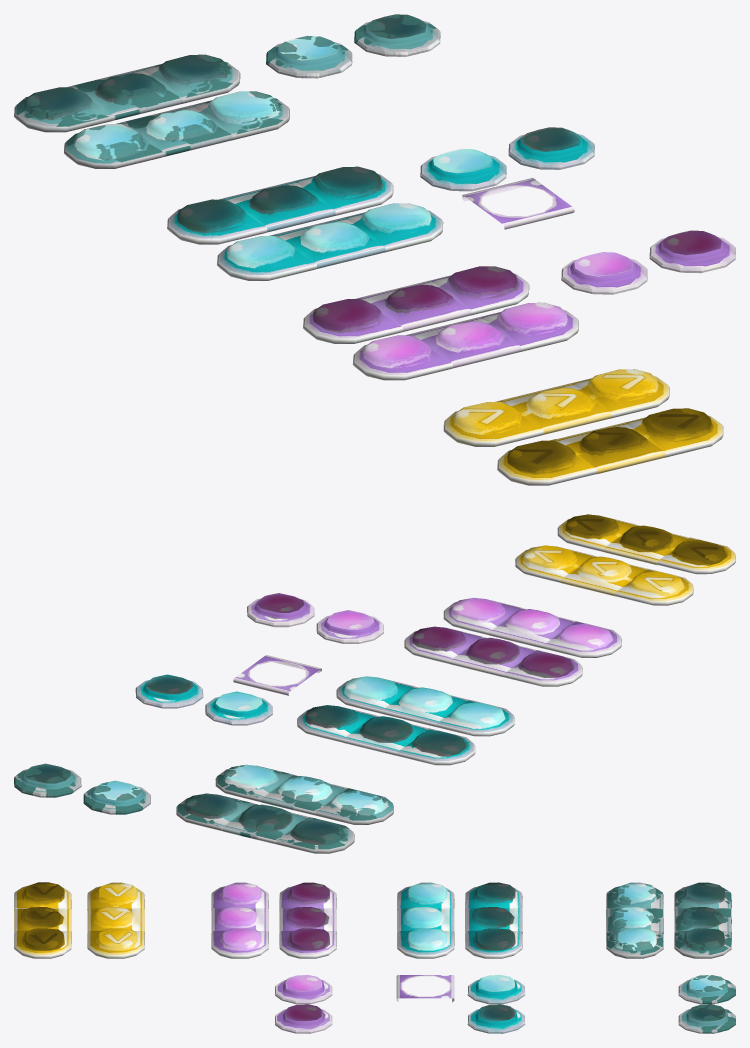
3 renders of one model, top to bottom at view 1: azimuth 30°, elevation 25°; view 2: azimuth 150°, elevation 25°; view 3: azimuth 270°, elevation 25°, orthographic. The views are drawn at different scales.
Visible parts, largest first — view 1: neuro_tile_start.003, neuro_tile_start.015, neuro_tile_start.011, neuro_tile_start.005, neuro_tile_start.001, neuro_tile_start.007, neuro_tile_start.009, neuro_tile_start.013, neuro_tile_mid.003, neuro_tile_mid.004, neuro_tile_mid.005, neuro_tile_mid.012 (+19 smaller); view 2: neuro_tile_mid.005, neuro_tile_mid.006, neuro_tile_mid.003, neuro_tile_mid.012, neuro_tile_mid.004, neuro_tile_mid.002, neuro_tile_mid.007, neuro_tile_start.011, neuro_tile_mid.001, neuro_tile_start.003, neuro_tile_start.009, neuro_tile_start.001 (+19 smaller); view 3: neuro_tile_start, neuro_tile_start.002, neuro_tile_start.006, neuro_tile_start.014, neuro_tile_start.004, neuro_tile_start.008, neuro_tile_start.010, neuro_tile_start.012, neuro_tile_unique.002, neuro_tile_unique.005, neuro_tile_unique.004, neuro_tile_unique.003 (+19 smaller).
Boxes of the visible parts, box(x1,y1,x2,y2) form: neuro_tile_start.003: box(497, 439, 597, 485); neuro_tile_start.015: box(14, 85, 114, 132); neuro_tile_start.011: box(167, 198, 267, 244); neuro_tile_start.005: box(353, 333, 452, 380); neuro_tile_start.001: box(443, 400, 543, 446); neuro_tile_start.007: box(303, 297, 403, 343); neuro_tile_start.009: box(217, 234, 317, 280); neuro_tile_start.013: box(64, 122, 163, 168); neuro_tile_mid.003: box(361, 280, 472, 332); neuro_tile_mid.004: box(275, 217, 386, 268); neuro_tile_mid.005: box(225, 181, 336, 232); neuro_tile_mid.012: box(502, 383, 612, 434); neuro_tile_mid.005: box(342, 715, 429, 756); neuro_tile_mid.006: box(260, 775, 347, 815); neuro_tile_mid.003: box(449, 637, 536, 677); neuro_tile_mid.012: box(560, 555, 647, 596); neuro_tile_mid.004: box(381, 686, 468, 727); neuro_tile_mid.002: box(488, 608, 575, 648); neuro_tile_mid.007: box(221, 804, 307, 844); neuro_tile_start.011: box(397, 728, 475, 765); neuro_tile_mid.001: box(602, 524, 688, 565); neuro_tile_start.003: box(657, 537, 735, 574); neuro_tile_start.009: box(436, 699, 514, 736); neuro_tile_start.001: box(615, 569, 693, 605); neuro_tile_start: box(87, 928, 144, 958); neuro_tile_start.002: box(14, 928, 71, 958); neuro_tile_start.006: box(279, 928, 336, 958); neuro_tile_start.014: box(674, 928, 731, 958); neuro_tile_start.004: box(211, 928, 268, 958); neuro_tile_start.008: box(397, 928, 454, 958); neuro_tile_start.010: box(465, 928, 522, 958); neuro_tile_start.012: box(606, 928, 663, 958); neuro_tile_unique.002: box(678, 975, 735, 1004); neuro_tile_unique.005: box(275, 1004, 332, 1033); neuro_tile_unique.004: box(275, 975, 332, 1004); neuro_tile_unique.003: box(678, 1004, 735, 1033).
Bounding box in the file's own units: 584 × 36.32 × 1279.
Materials: 27 (27 with a texture image).
